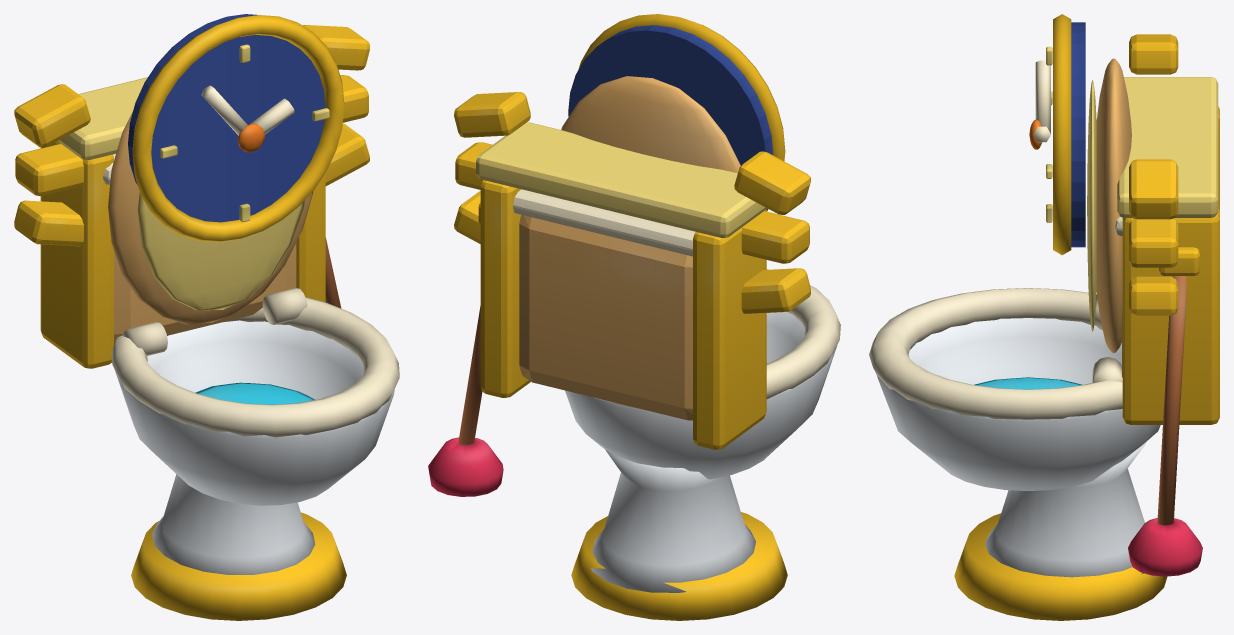
The model's file is ClockworkCloset.fbx.
The picture shows the model from 3 angles, left to right: view 1: azimuth 30°, elevation 25°; view 2: azimuth 150°, elevation 25°; view 3: azimuth 270°, elevation 25°; orthographic projection.
Parts seen in each view (by area): view 1: ClockworkCloset; view 2: ClockworkCloset; view 3: ClockworkCloset.
Part boxes in pixels (x1=…): ClockworkCloset: x1=14, y1=14, x2=399, y2=620; ClockworkCloset: x1=428, y1=14, x2=840, y2=620; ClockworkCloset: x1=869, y1=14, x2=1219, y2=620.
Bounding box in the file's own units: 3.52 × 5.18 × 2.99.
Materials: 1 (1 with a texture image).
